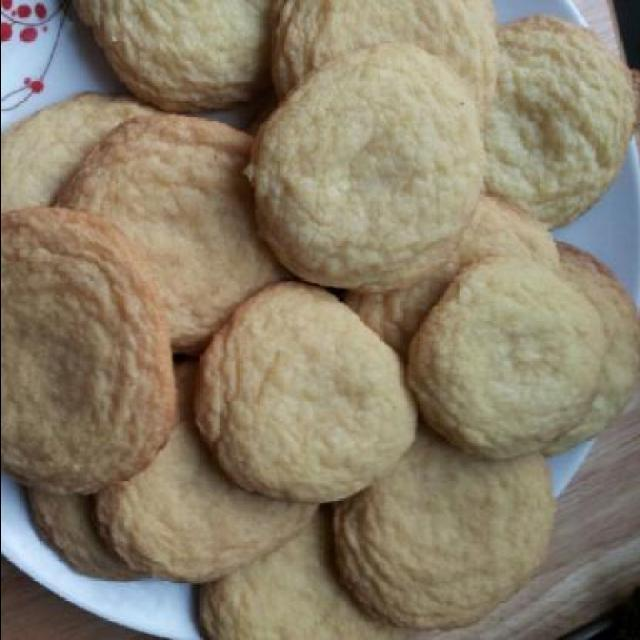Cookie: (245, 43, 488, 295), (52, 113, 290, 365), (1, 208, 173, 497), (90, 374, 321, 586), (198, 286, 418, 508), (332, 412, 556, 628), (402, 252, 608, 468), (340, 197, 562, 357), (482, 16, 640, 232), (198, 501, 412, 639), (265, 0, 503, 117), (71, 0, 269, 114), (0, 94, 176, 218), (542, 233, 640, 455), (28, 484, 148, 578)
